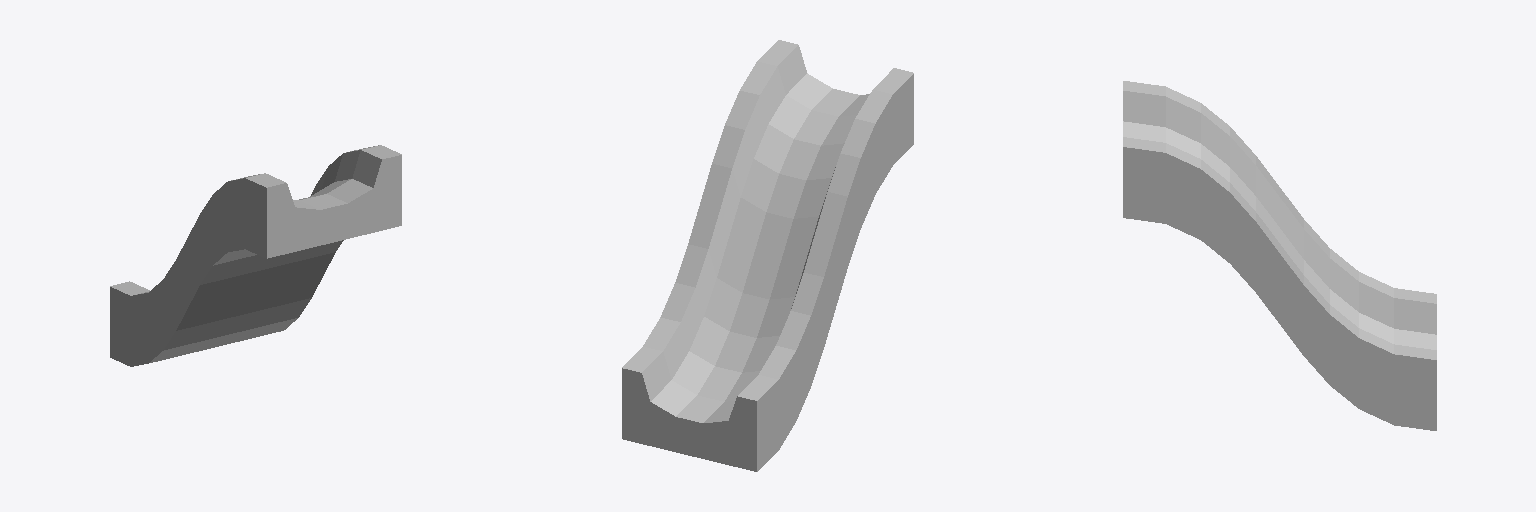
File: ramp-long-d.obj
The picture shows the model from 3 angles: view 1: azimuth 30°, elevation 25°; view 2: azimuth 150°, elevation 25°; view 3: azimuth 270°, elevation 25°; orthographic projection.
Parts seen in each view (by area): view 1: ramp-long-d; view 2: ramp-long-d; view 3: ramp-long-d.
Boxes of the visible parts, <box> form: ramp-long-d: <box>110,145,401,366</box>; ramp-long-d: <box>622,40,913,471</box>; ramp-long-d: <box>1123,81,1436,430</box>.
Size of the model in its own units: 1 by 2 by 2.